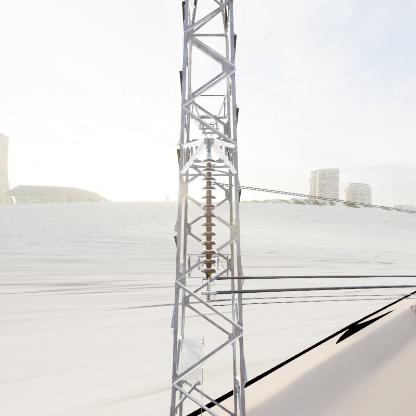insulator: (201, 157, 219, 284)
